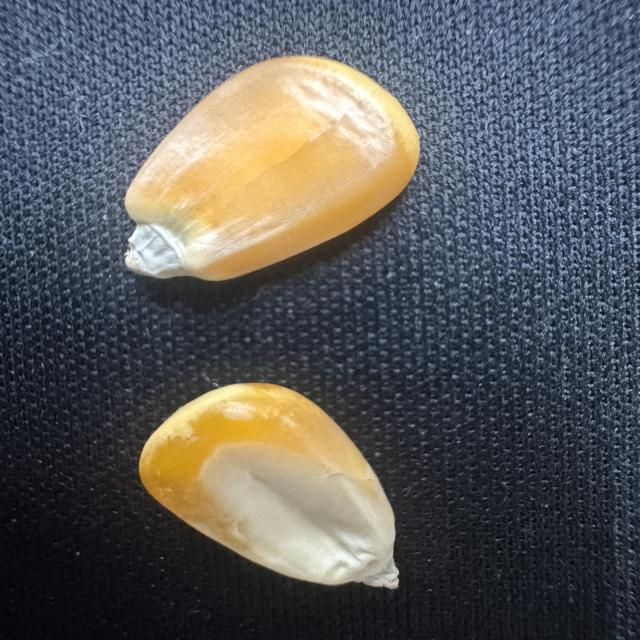Good-Seed: (106, 51, 436, 291), (125, 372, 414, 596)
